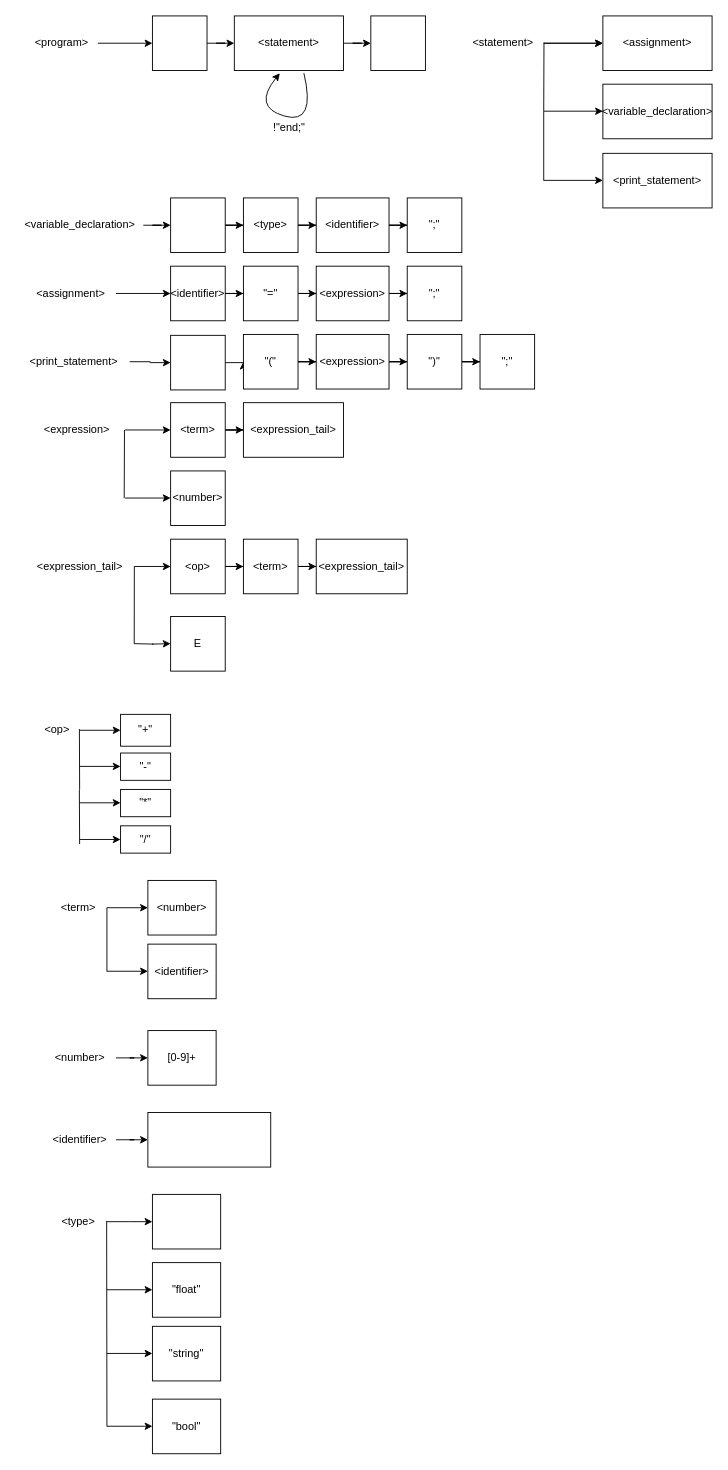
Image size: 728x1470. Some labels were removed from this diagram. Here are the shapes that lost their labels. From the top down, the centre of each, then its label:
(x=179, y=43): "program"
(x=397, y=43): "end;"
(x=197, y=225): "var"
(x=197, y=362): "print"
(x=209, y=1139): [a-zA-Z_][a-zA-Z0-9_]*
(x=186, y=1221): "int"
